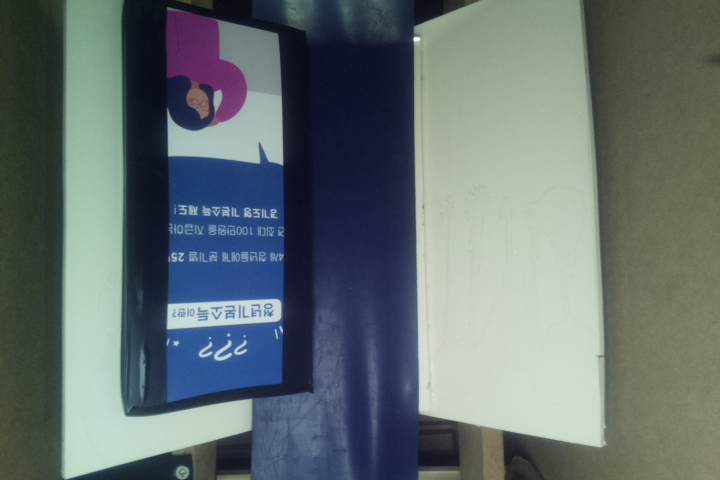book: (121, 1, 313, 418)
